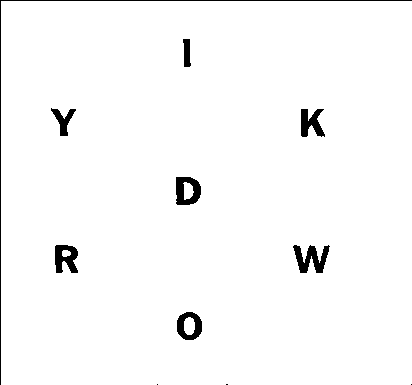I: (178, 36, 198, 74)
